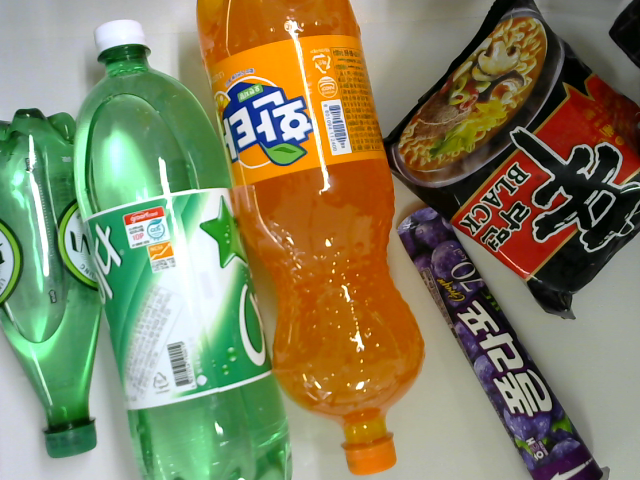Chilseong_Cider_1.5L: (67, 15, 304, 480)
Hwanta_Orange_1.5L: (183, 1, 430, 478)
Polapo_Grape: (393, 201, 615, 480)
Sinramen_Black: (377, 2, 640, 319)
Treviraim_500ml: (1, 102, 106, 472)
